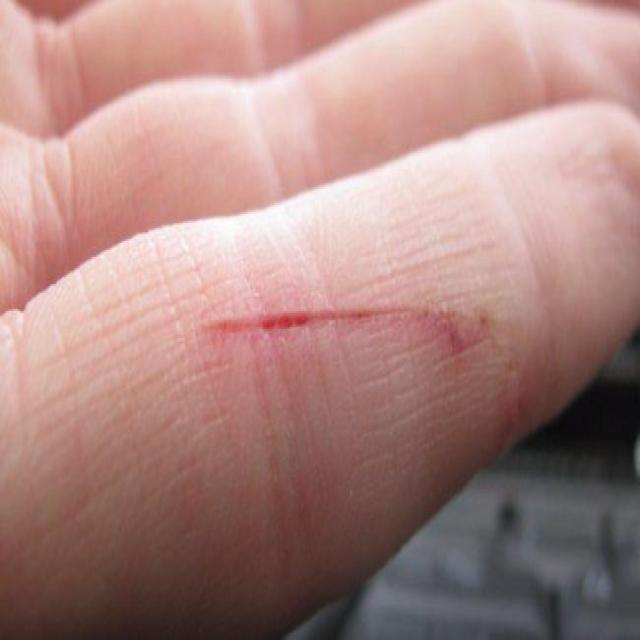Cut: (194, 292, 496, 371)
